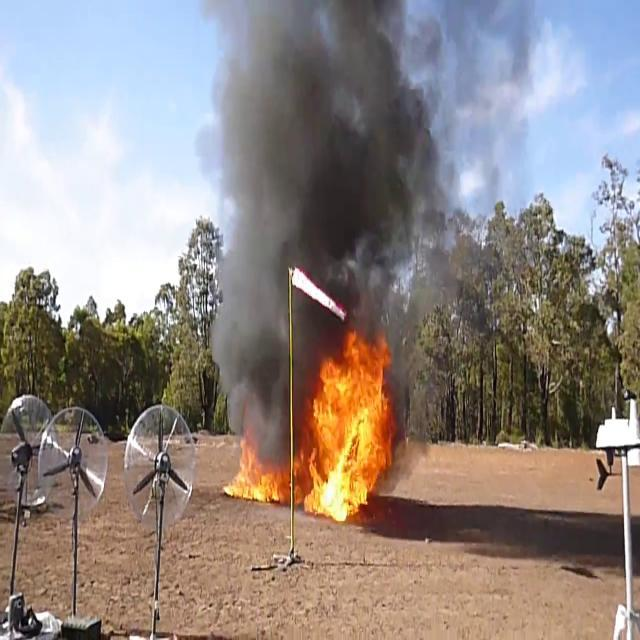Fire: (304, 331, 398, 524), (224, 437, 288, 507)
Smoke: (202, 1, 459, 407)
